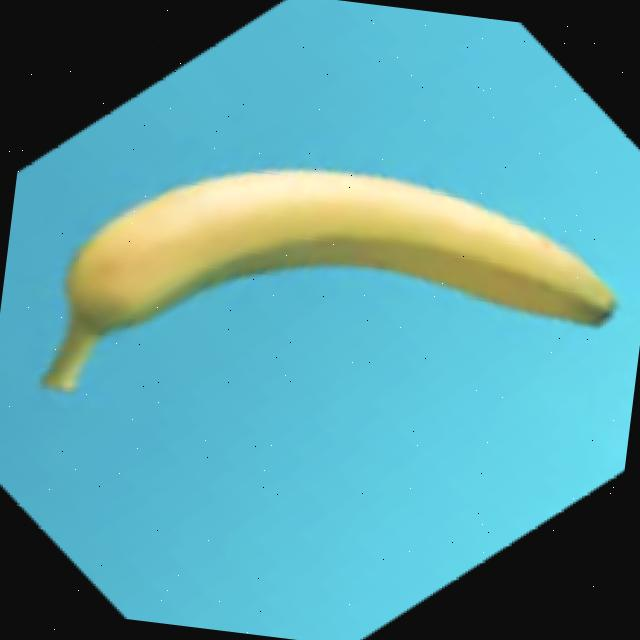Ripe: (35, 132, 632, 462)
